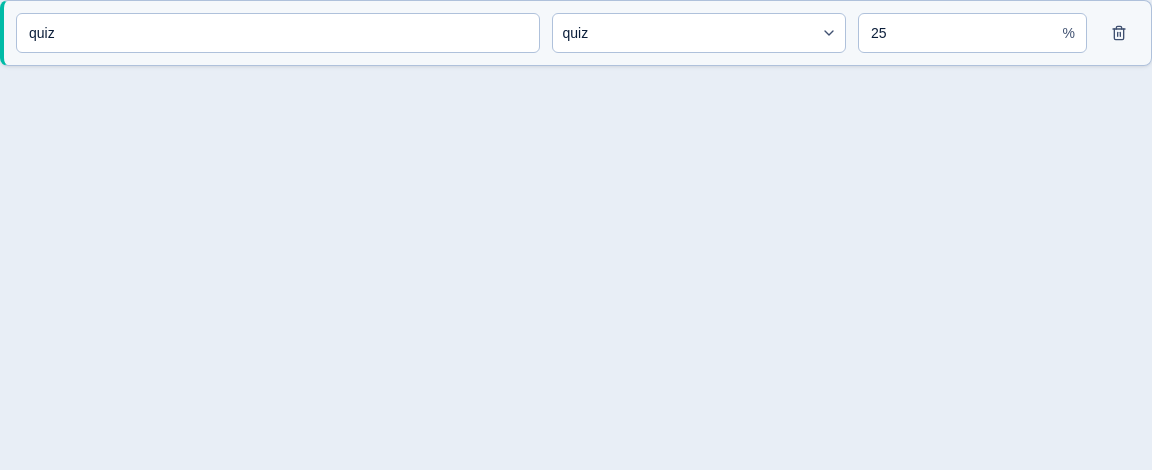
Test: GradingSchemeComponentRow — category name auto-fill (TICK-ASSESS-004) › treats a name that merely matches a label as auto (re-fillable)
Click the dropdown.
click(575, 33)  # box x1=552 y1=13 x2=846 y2=53
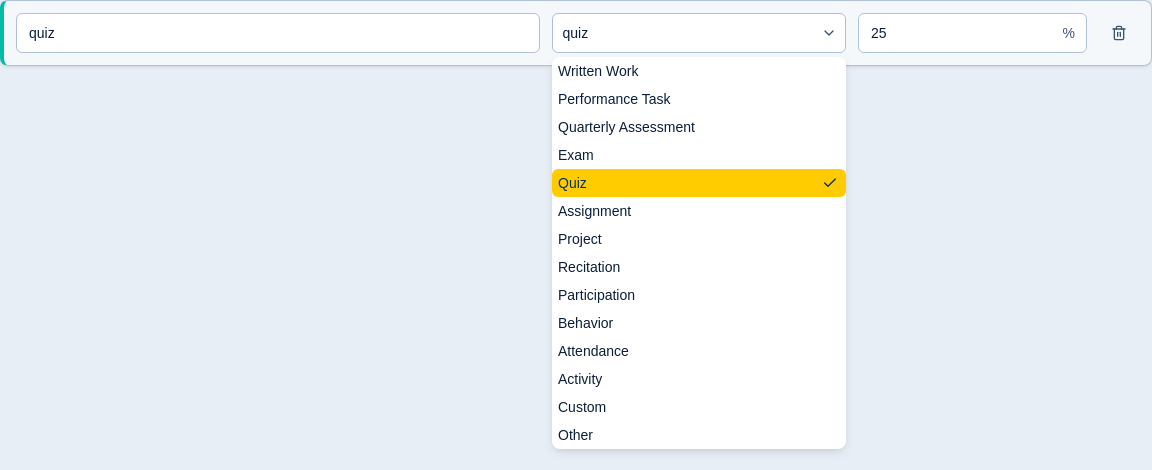
Click the option "Activity".
click(580, 379)  # box x1=558 y1=371 x2=602 y2=387
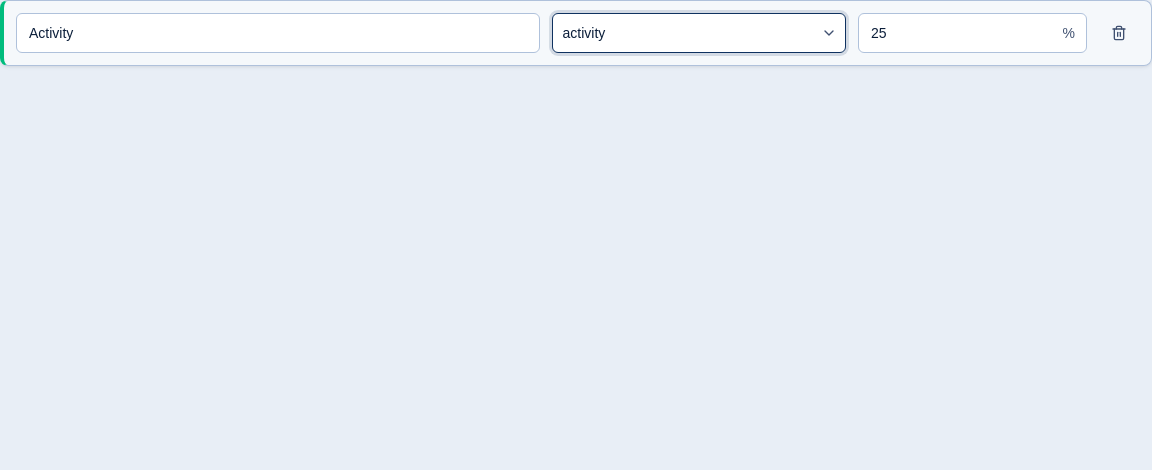
Expected: the field named "Category name" holds "Activity", x1=16 y1=13 x2=540 y2=53
